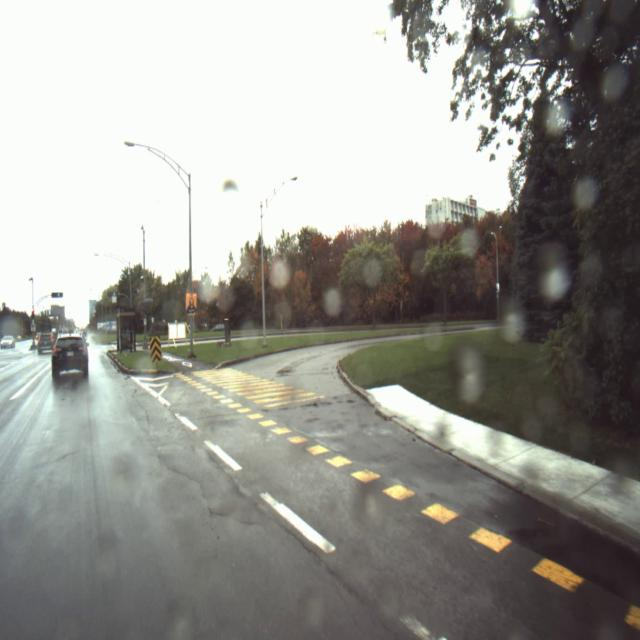car: (51, 333, 89, 377), (38, 333, 55, 355), (1, 335, 16, 348)
trafficLight-Green: (112, 290, 117, 298), (56, 292, 62, 298)
